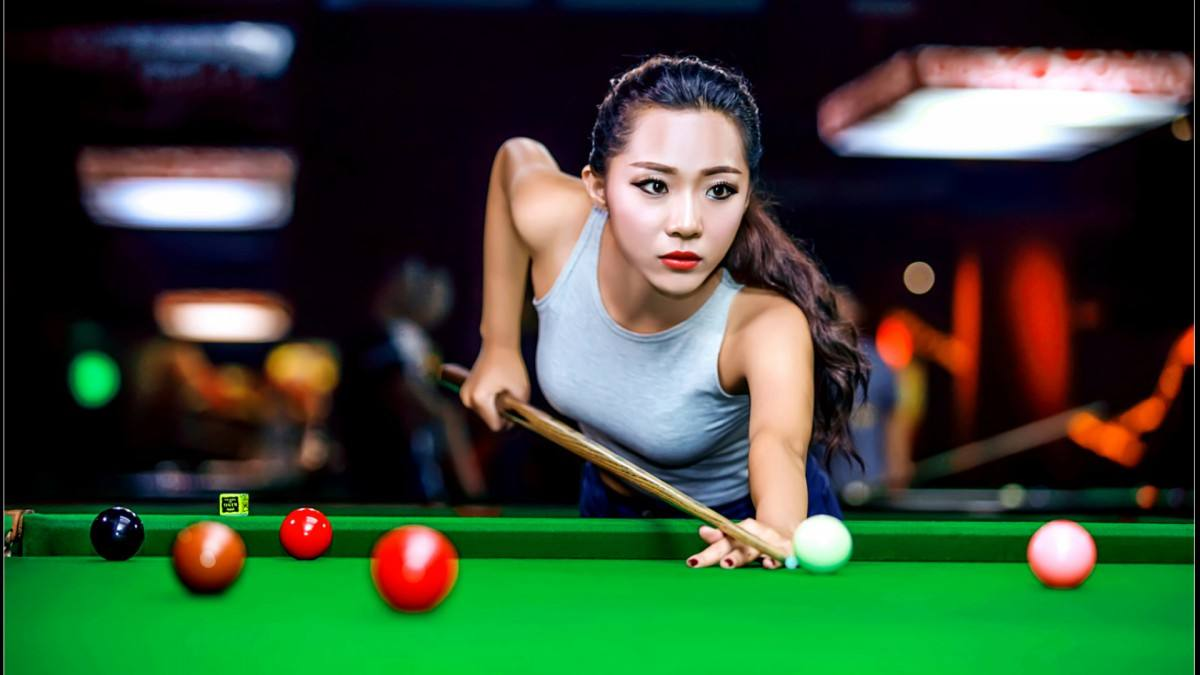person: (487, 79, 900, 549)
